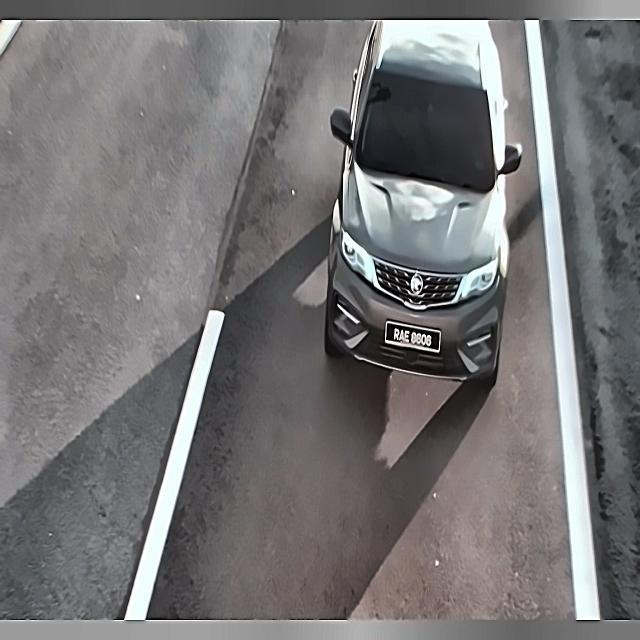car: (382, 318, 448, 363)
